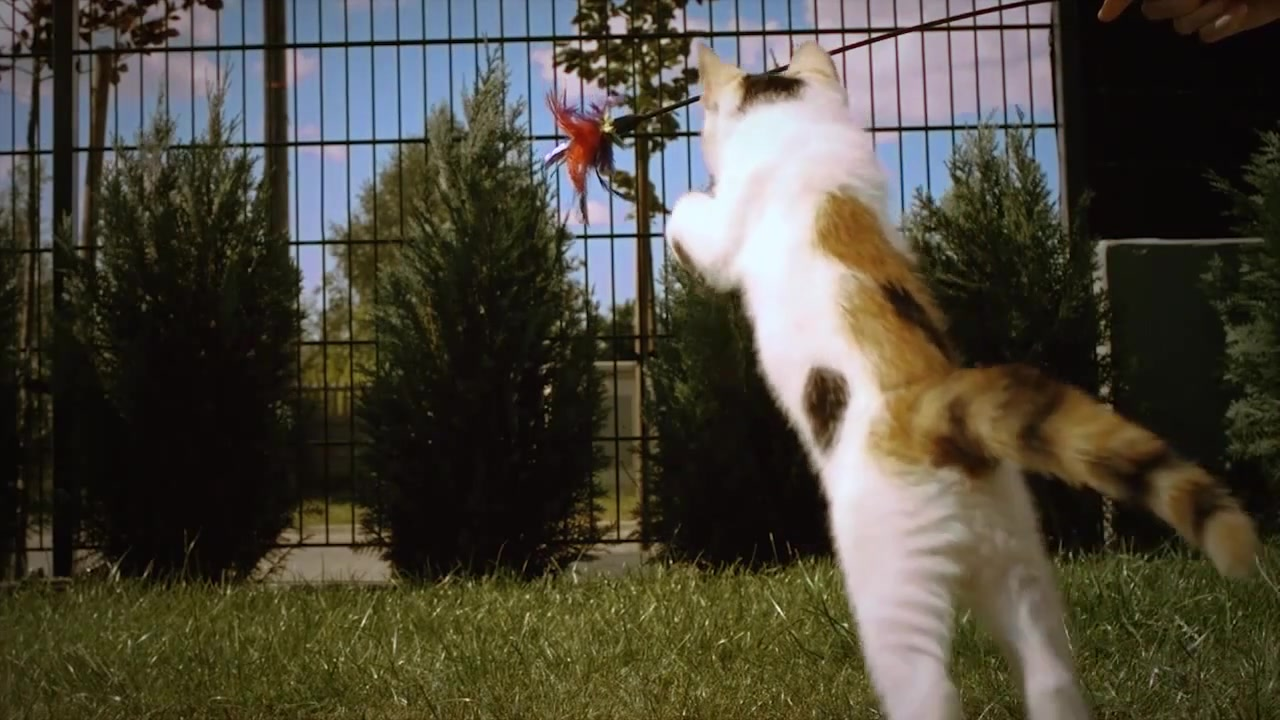cat: (658, 40, 1264, 719)
